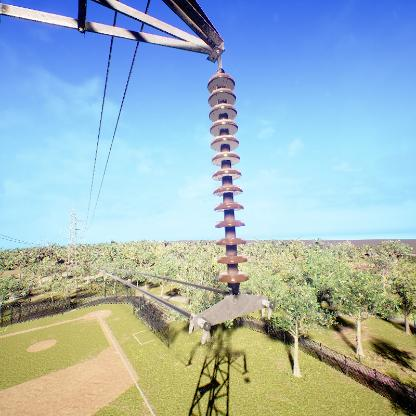insulator: (205, 71, 251, 290)
